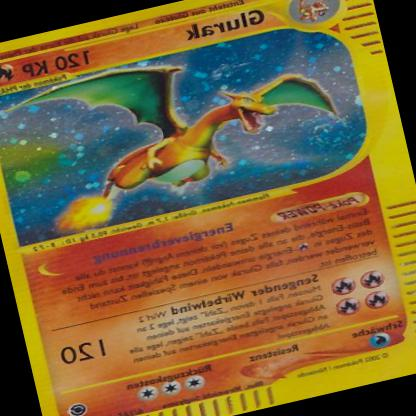Squirtle: (42, 30, 335, 225)
